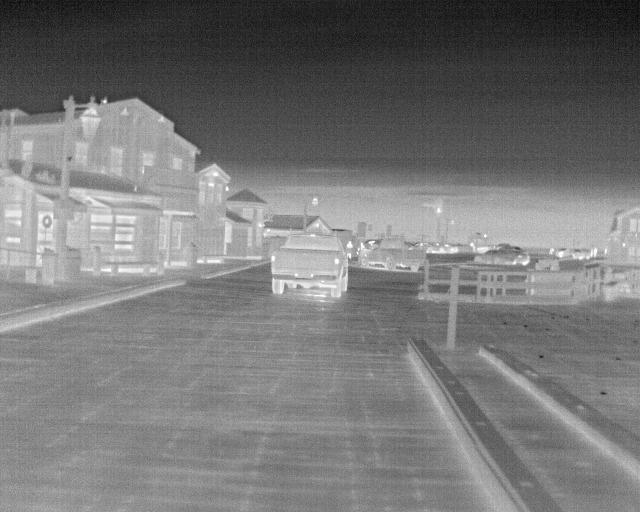car: (267, 230, 351, 300), (356, 235, 426, 274), (470, 246, 517, 265), (442, 242, 461, 255), (570, 248, 586, 262), (554, 245, 570, 259)
